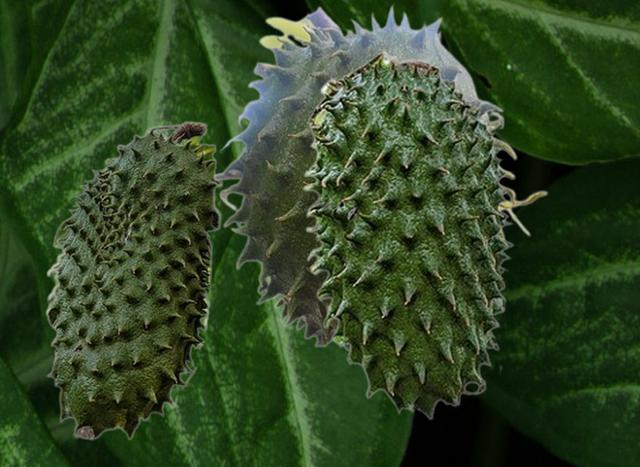guyabano: (217, 2, 548, 351), (302, 48, 514, 419), (44, 120, 222, 440)
